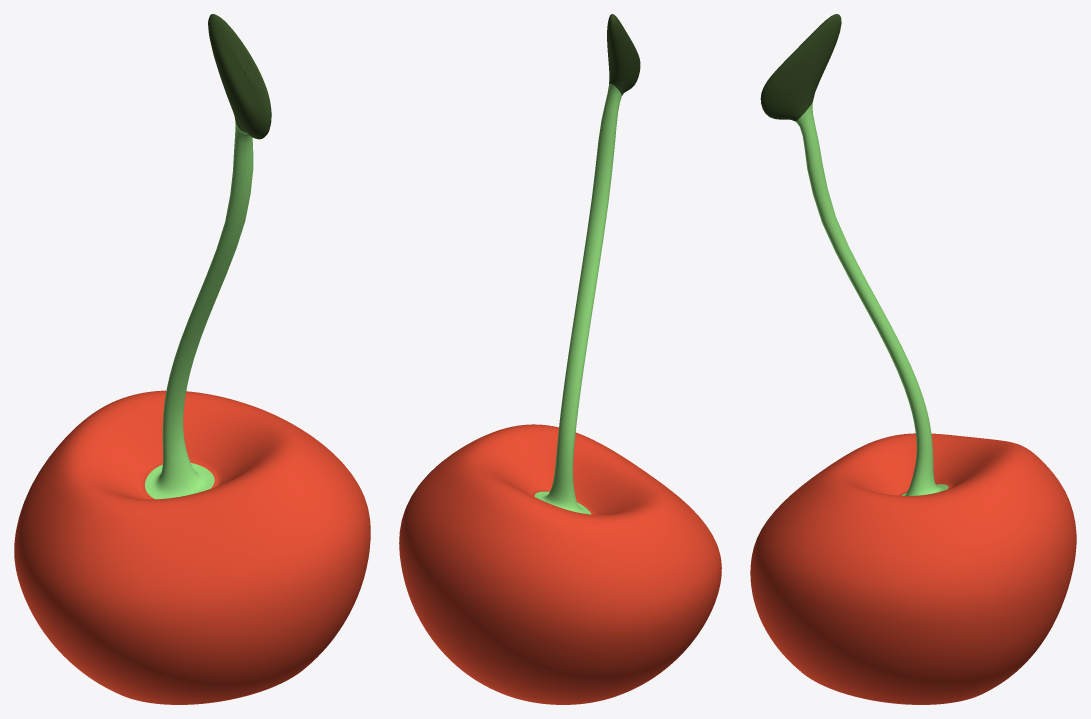
The model's file is cherry.gltf.
3 views of the same model, side by side, from view 1: azimuth 30°, elevation 25°; view 2: azimuth 150°, elevation 25°; view 3: azimuth 270°, elevation 25° (orthographic). The views are drawn at different scales.
Visible parts, largest first — view 1: cherry04.001; view 2: cherry04.001; view 3: cherry04.001.
Boxes of the visible parts, x1,y1,x2,y2 form: cherry04.001: (14, 14, 370, 704); cherry04.001: (399, 14, 721, 704); cherry04.001: (750, 14, 1076, 704).
Bounding box in the file's own units: 0.2398 × 0.5144 × 0.2313.
